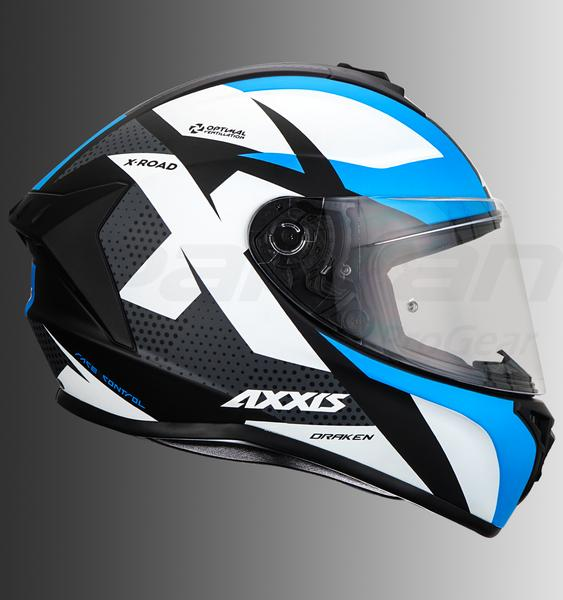helmet: (14, 56, 563, 562)
